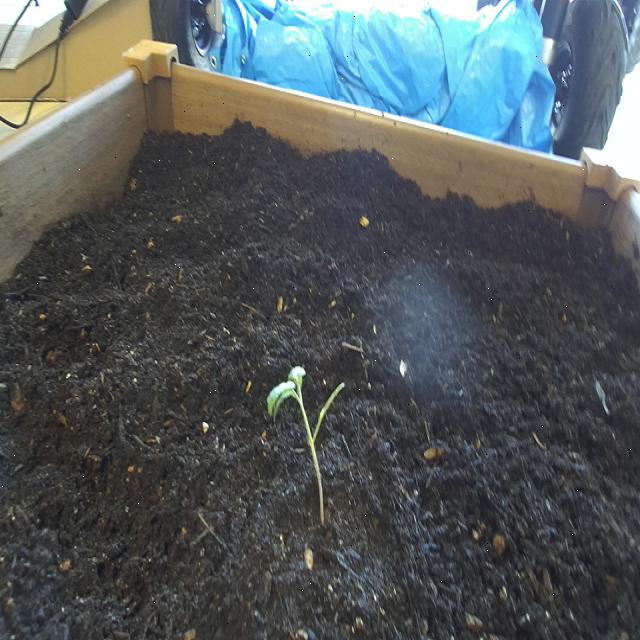Healthy: (265, 362, 346, 526)
